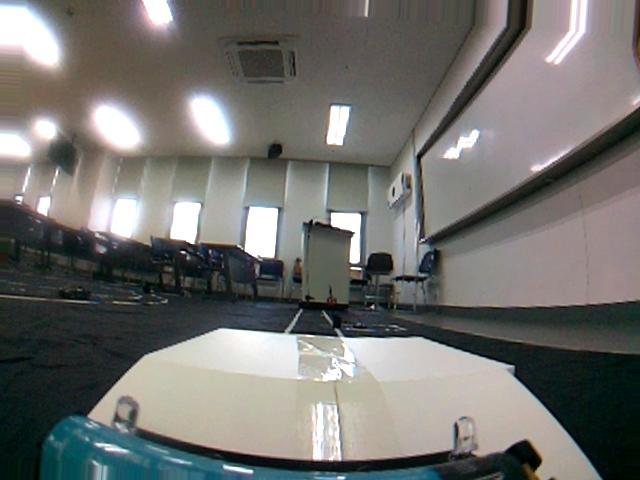hill_up: (51, 324, 640, 480)
